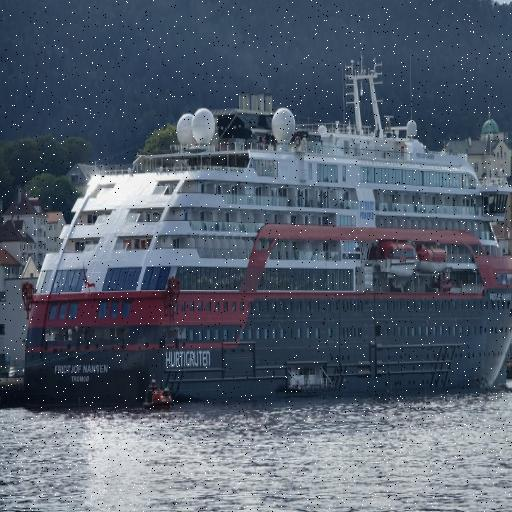cruises: (23, 57, 512, 407)
